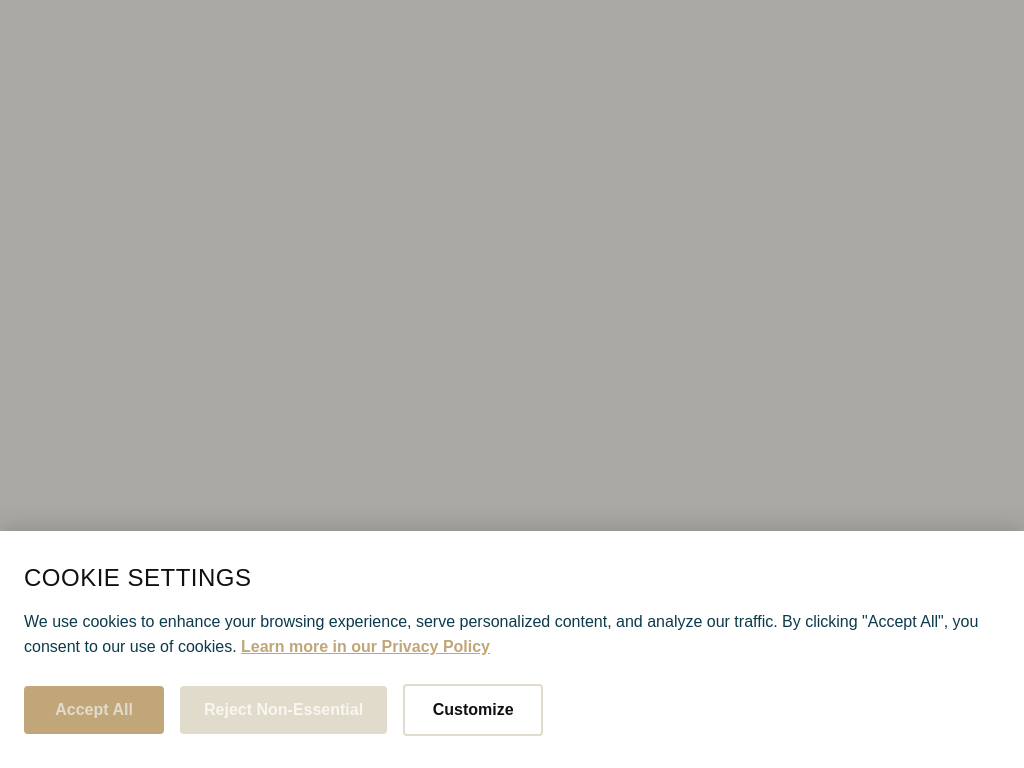
Scenario: CookieConsent › Customize Functionality › shows customization view when "Customize" is clicked
Expected: the dialog is shown, 0,531 -> 1023,767
Click the button with aria-label "Customize cookie settings" at (473, 710), box 403,684 -> 543,736
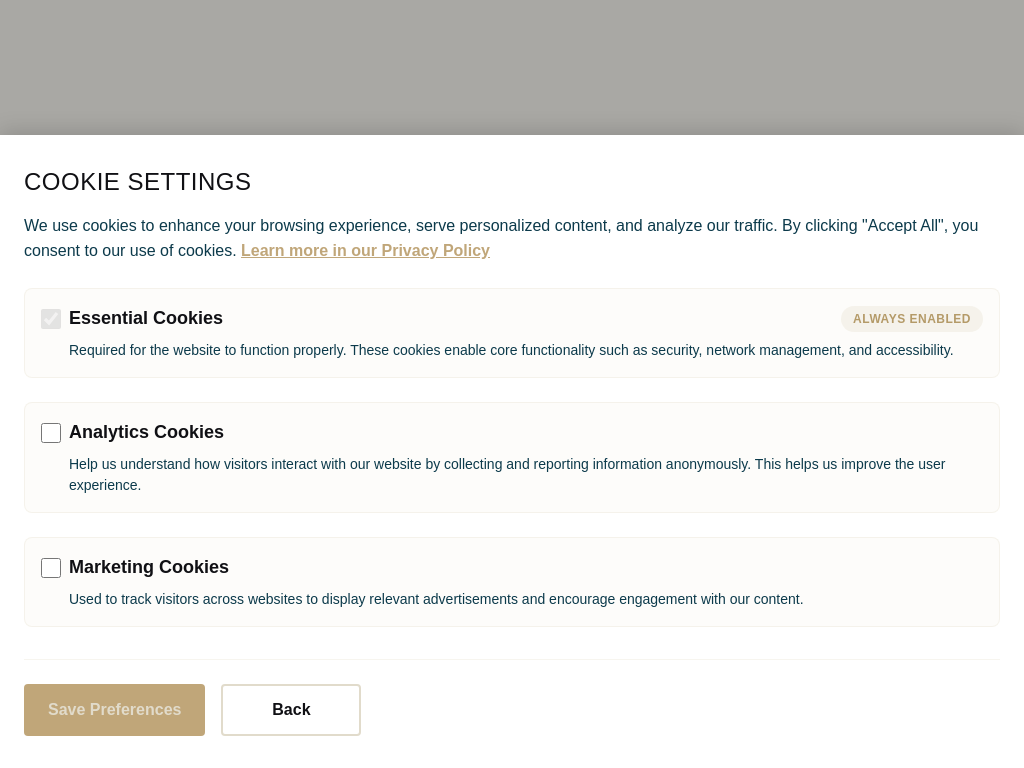
Result: the text "Essential Cookies" is shown at 69,308 -> 223,328
Result: the text "Analytics Cookies" is shown at 69,422 -> 224,442
Result: the text "Marketing Cookies" is shown at 69,557 -> 229,577
